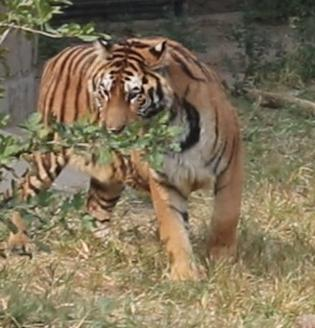tiger: (24, 36, 243, 278)
